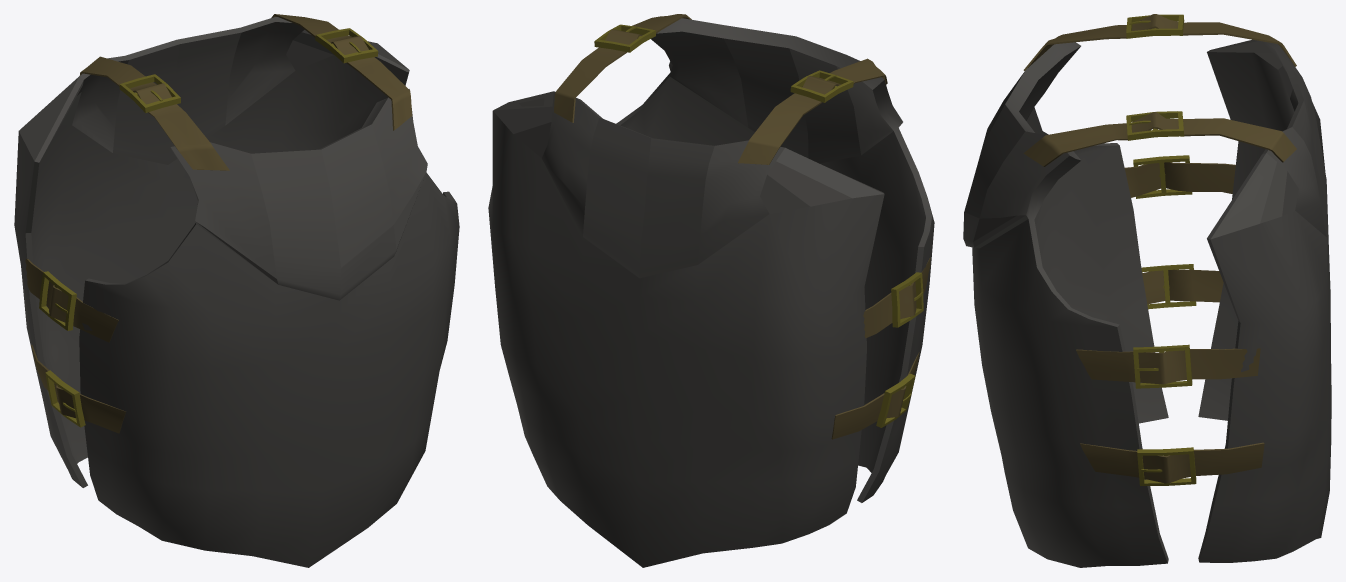
Rendered from Chest Armor.fbx.
3 views of the same model, side by side, from view 1: azimuth 30°, elevation 25°; view 2: azimuth 150°, elevation 25°; view 3: azimuth 270°, elevation 25° (orthographic). The views are drawn at different scales.
Parts seen in each view (by area): view 1: polySurface461; view 2: polySurface461; view 3: polySurface461.
Boxes of the visible parts, x1,y1,x2,y2 form: polySurface461: (14,14,459,567); polySurface461: (488,14,934,567); polySurface461: (963,14,1331,567).
Bounding box in the file's own units: 3.46 × 3.92 × 2.74.
